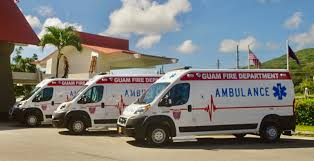special: (117, 68, 296, 148), (53, 74, 156, 129), (8, 76, 81, 125)
